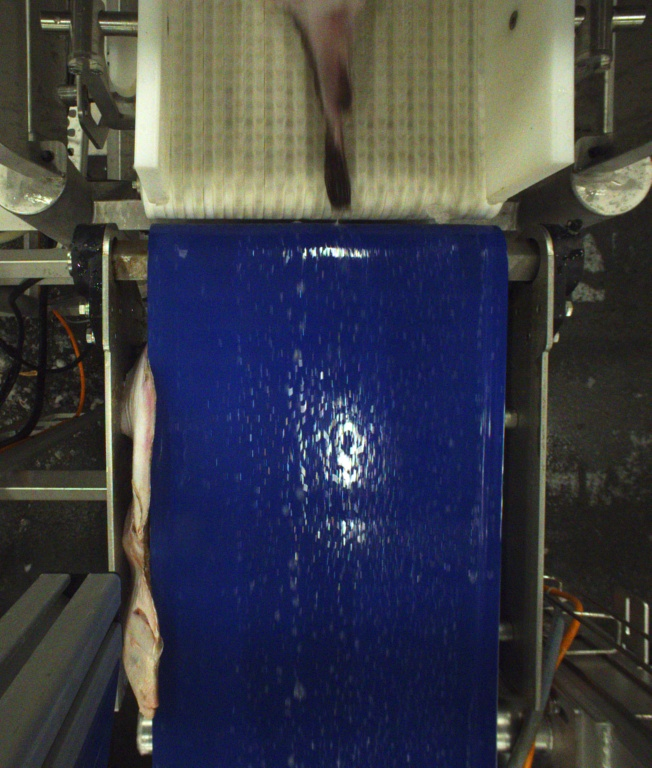ANF: (277, 0, 363, 218)
